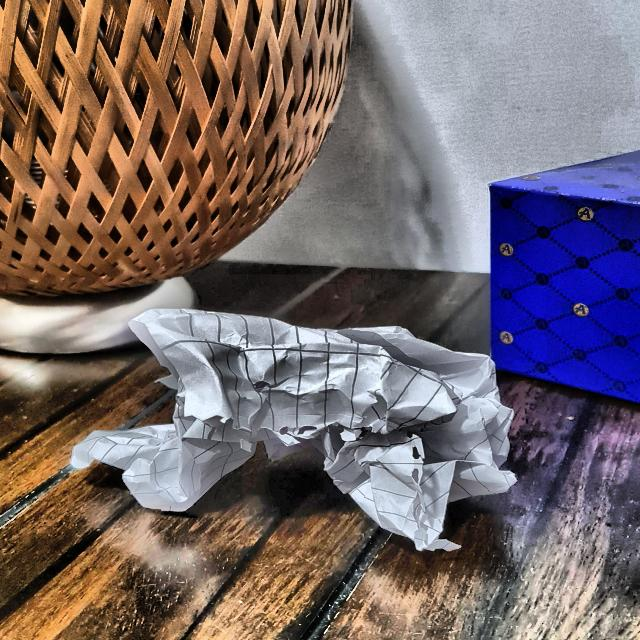paper: (66, 296, 528, 544)
